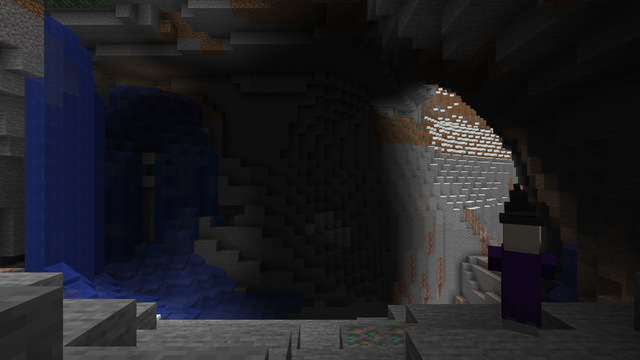sorcieres: (491, 215, 552, 339)
